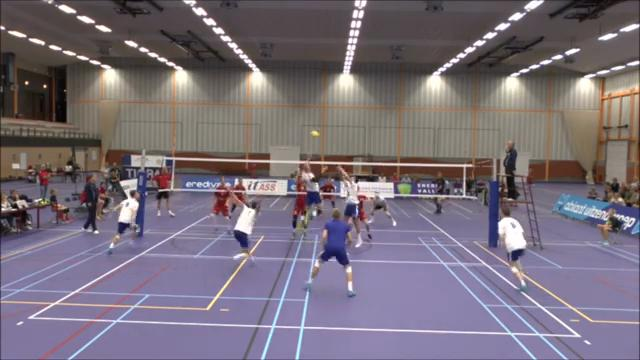alzata: (333, 159, 367, 253)
attacco: (291, 153, 330, 230)
